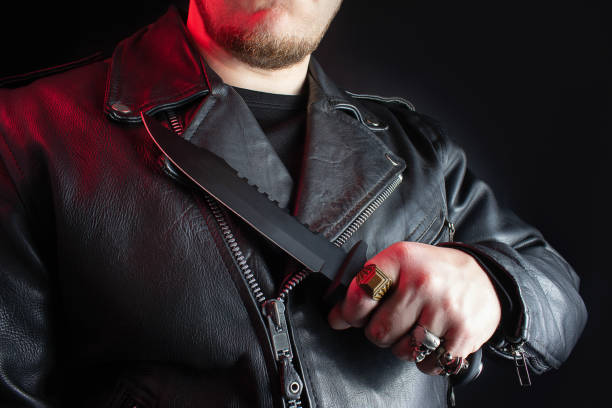knife: (137, 108, 486, 389)
